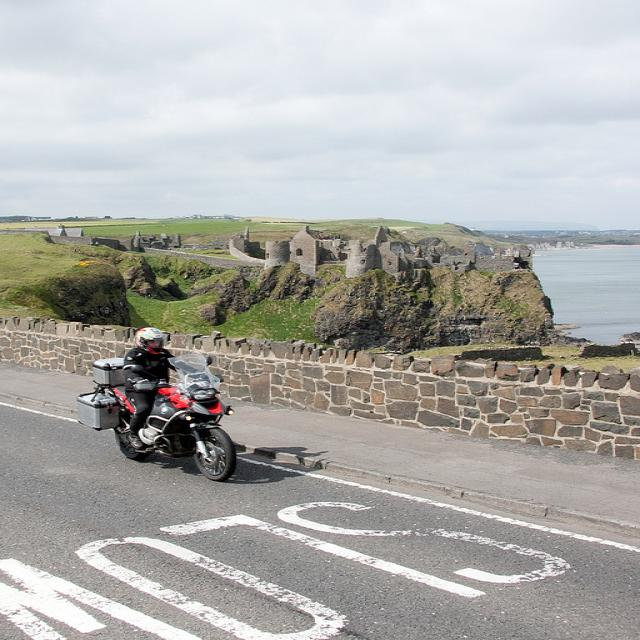motor: (73, 354, 239, 484)
